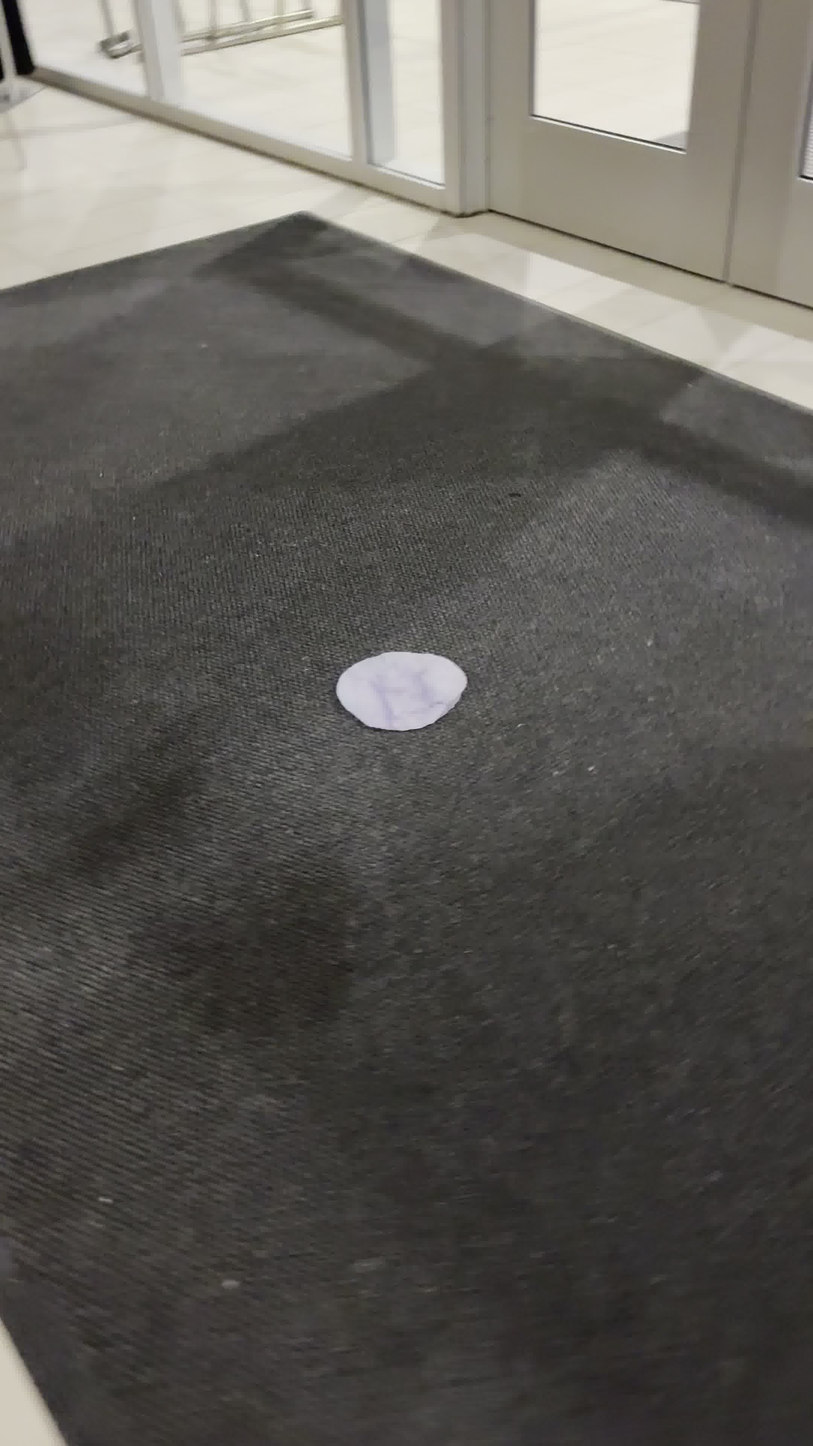Target: (336, 651, 466, 732)
